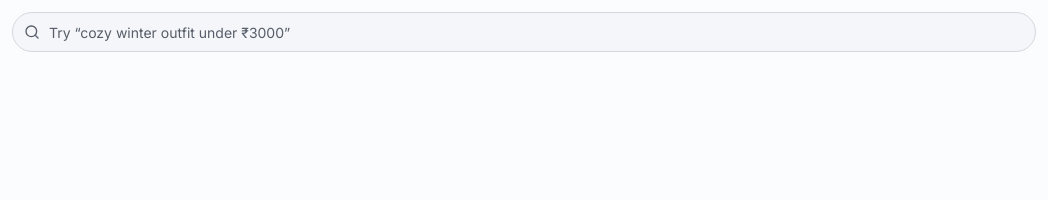
Scenario: SearchBox autocomplete › debounces, shows suggestions and navigates with the keyboard
Later steps or results of the test are not shown.
Type "sweatr" into the dropdown named "Search products" at (524, 32), box [12,12,1036,52]
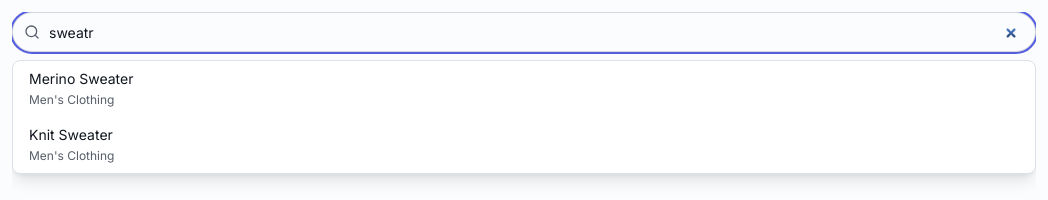
Check: the option "Merino Sweater Men's Clothing" is shown, box [29,70,133,107]
Check: the dropdown named "Search products" is expanded, box [12,12,1036,52]
